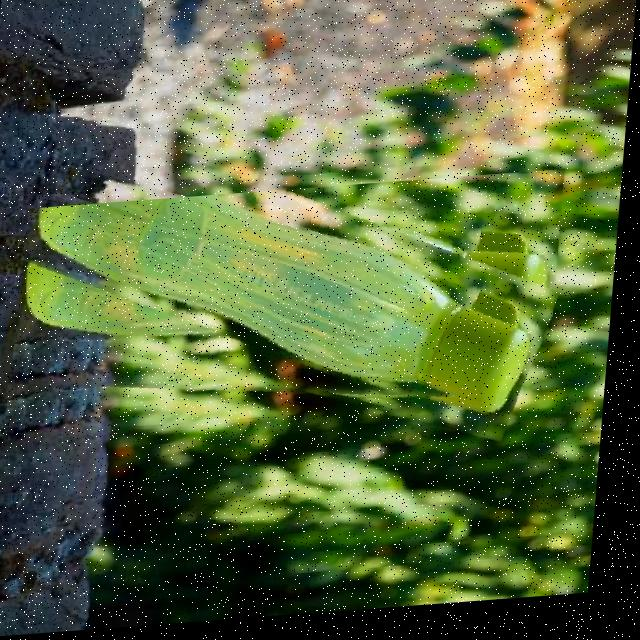plasticbottle: (12, 178, 567, 441)
